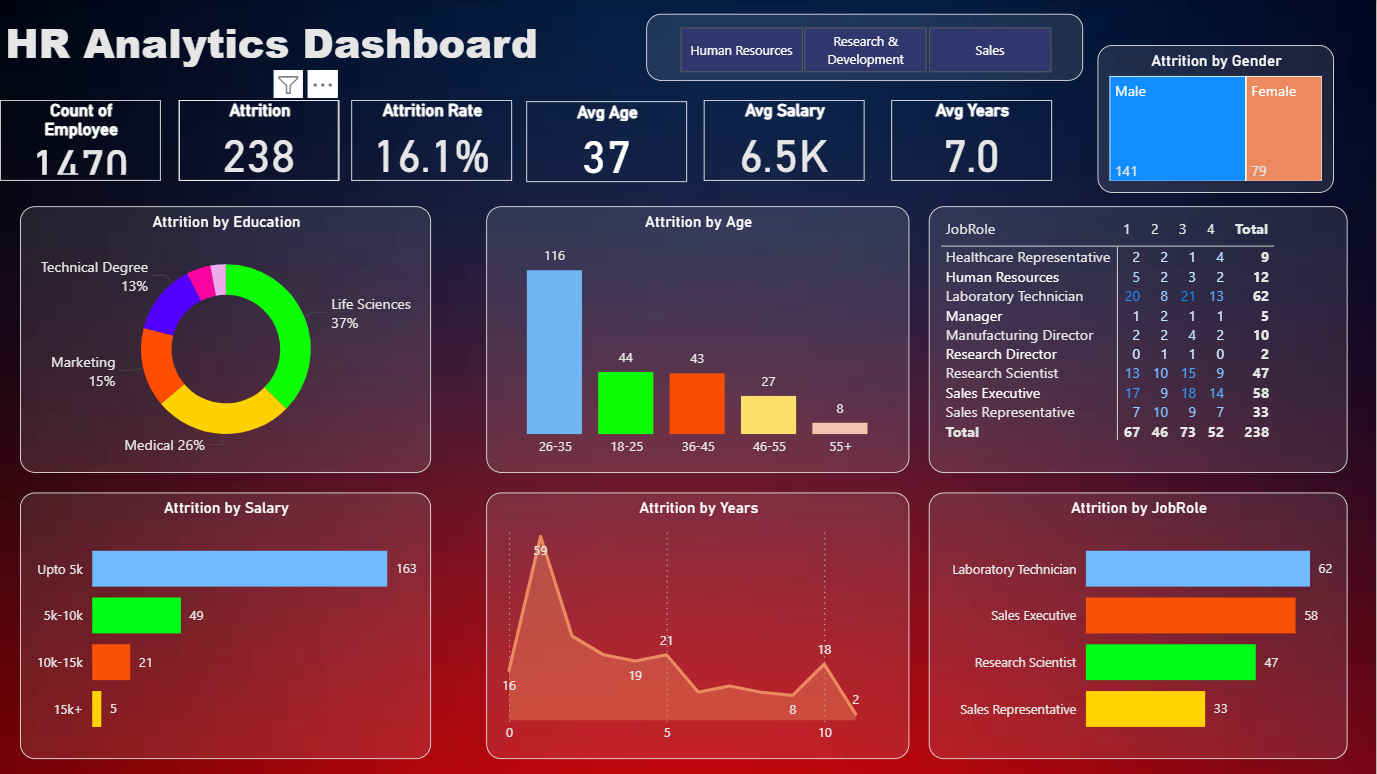

This screenshot's page, from the dashboard's own definition file:
{"tool":"powerbi","page":{"name":"HR Dashboard","canvas":[1280,720],"ordinal":0},"visuals":[{"type":"card","title":"Count of Employee","fields":{"Values":["CountNonNull(Dim_Employee.EmpID)"]},"box":[0,92.7,149.6,75.5],"z":0},{"type":"card","title":"Attrition","fields":{"Values":["Sum(Fact_HR_Metrics.Attrictioncount)"]},"box":[166,92.7,149.6,75.5],"z":1000},{"type":"card","title":"Attrition Rate","fields":{"Values":["Measures_.AttritionRate"]},"box":[326.6,92.7,149.6,75.5],"z":2000},{"type":"card","title":"Avg Age","fields":{"Values":["Avg(Dim_Employee.Age)"]},"box":[489.9,94.1,149.6,75.5],"z":3000},{"type":"card","title":"Avg Salary","fields":{"Values":["Avg(Fact_HR_Metrics.MonthlyIncome)"]},"box":[654.5,92.7,149.6,75.5],"z":4000},{"type":"card","title":"Avg Years","fields":{"Values":["Avg(Fact_HR_Metrics.YearsAtCompany)"]},"box":[828.8,92.7,149.6,75.5],"z":5000},{"type":"donutChart","title":"Attrition by Education","fields":{"Category":["Dim_Education.EducationField"],"Y":["Sum(Fact_HR_Metrics.Attrictioncount)"]},"box":[18.1,192,382.7,247.7],"z":6000},{"type":"columnChart","title":"Attrition by Age","fields":{"Category":["Dim_Employee.AgeGroup"],"Y":["Sum(Fact_HR_Metrics.Attrictioncount)"]},"box":[452.3,192,393.8,247.7],"z":7000},{"type":"pivotTable","fields":{"Rows":["Dim_Job_Profile.JobRole"],"Columns":["Fact_HR_Metrics.JobSatisfaction"],"Values":["Sum(Fact_HR_Metrics.Attrictioncount)"]},"box":[864.2,192,389.7,247.7],"z":8000},{"type":"clusteredBarChart","title":"Attrition by Salary","fields":{"Category":["Dim_Employee.SalarySlab"],"Y":["Sum(Fact_HR_Metrics.Attrictioncount)"]},"box":[18.1,457.8,382.7,247.7],"z":9000},{"type":"clusteredBarChart","title":"Attrition by JobRole","fields":{"Category":["Dim_Job_Profile.JobRole"],"Y":["Sum(Fact_HR_Metrics.Attrictioncount)"]},"box":[864.2,457.8,389.7,247.7],"z":10000},{"type":"areaChart","title":"Attrition by Years","fields":{"Category":["Fact_HR_Metrics.YearsAtCompany"],"Y":["Sum(Fact_HR_Metrics.Attrictioncount)"]},"box":[452.3,457.8,393.8,247.7],"z":11000},{"type":"treemap","title":"Attrition by Gender","fields":{"Group":["Dim_Employee.Gender"],"Values":["Sum(Fact_HR_Metrics.Attrictioncount)"]},"box":[1021.4,41.7,219.9,137.8],"z":12000},{"type":"slicer","fields":{"Values":["Dim_Job_Profile.Department"]},"box":[601.2,12.5,406.4,62.6],"z":13000},{"type":"textbox","box":[0,8.3,531.6,66.8],"z":14000}]}

Visuals, with their boxes in screenshot pixels (x1, y1, x2, y2), scaled from the page's 1280x720 canvas onto the 1377x774 screenshot:
"Count of Employee" card: 0, 100, 161, 181
"Attrition" card: 179, 100, 340, 181
"Attrition Rate" card: 351, 100, 512, 181
"Avg Age" card: 527, 101, 688, 182
"Avg Salary" card: 704, 100, 865, 181
"Avg Years" card: 892, 100, 1053, 181
"Attrition by Education" donutChart: 19, 206, 431, 473
"Attrition by Age" columnChart: 487, 206, 910, 473
pivotTable - Dim_Job_Profile.JobRole x Fact_HR_Metrics.JobSatisfaction: 930, 206, 1349, 473
"Attrition by Salary" clusteredBarChart: 19, 492, 431, 758
"Attrition by JobRole" clusteredBarChart: 930, 492, 1349, 758
"Attrition by Years" areaChart: 487, 492, 910, 758
"Attrition by Gender" treemap: 1099, 45, 1335, 193
slicer - Dim_Job_Profile.Department: 647, 13, 1084, 81
textbox: 0, 9, 572, 81
